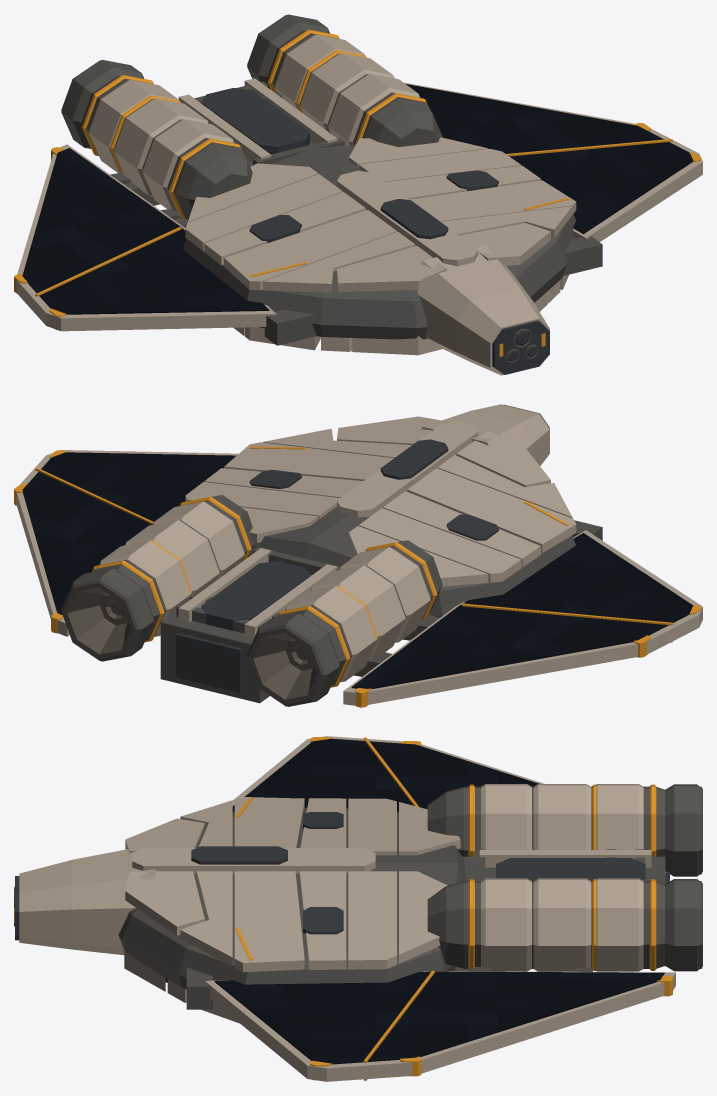
The model's file is starter-survey-lod2.glb.
3 renders of one model, top to bottom at view 1: azimuth 30°, elevation 25°; view 2: azimuth 150°, elevation 25°; view 3: azimuth 270°, elevation 25°, orthographic. The views are drawn at different scales.
Parts seen in each view (by area): view 1: Hull | Distant ceramic, Hull | Distant wing surfaces, Hull | Gunmetal frame, Hull | Dark graphite, Hull | Amber safety paint; view 2: Hull | Distant ceramic, Hull | Distant wing surfaces, Hull | Gunmetal frame, Hull | Dark graphite, Hull | Distant drive liner.001, Hull | Amber safety paint; view 3: Hull | Distant ceramic, Hull | Distant wing surfaces, Hull | Gunmetal frame, Hull | Dark graphite, Hull | Amber safety paint.
Part boxes in pixels (x1=…): Hull | Distant ceramic: x1=16, y1=34, x2=702, y2=375; Hull | Distant wing surfaces: x1=22, y1=84, x2=693, y2=314; Hull | Gunmetal frame: x1=61, y1=14, x2=602, y2=363; Hull | Dark graphite: x1=201, y1=88, x2=549, y2=374; Hull | Amber safety paint: x1=14, y1=29, x2=701, y2=356; Hull | Distant ceramic: x1=16, y1=404, x2=702, y2=705; Hull | Distant wing surfaces: x1=22, y1=452, x2=693, y2=689; Hull | Gunmetal frame: x1=61, y1=455, x2=602, y2=706; Hull | Dark graphite: x1=176, y1=404, x2=549, y2=692; Hull | Distant drive liner.001: x1=67, y1=587, x2=316, y2=699; Hull | Amber safety paint: x1=14, y1=446, x2=701, y2=707; Hull | Distant ceramic: x1=19, y1=736, x2=675, y2=1081; Hull | Distant wing surfaces: x1=214, y1=738, x2=664, y2=1064; Hull | Gunmetal frame: x1=14, y1=784, x2=702, y2=1009; Hull | Dark graphite: x1=15, y1=812, x2=669, y2=982; Hull | Amber safety paint: x1=14, y1=737, x2=672, y2=1080.
Size of the model in its own units: 9.28 by 1.59 by 8.13.
Materials: 6 (1 with a texture image).
